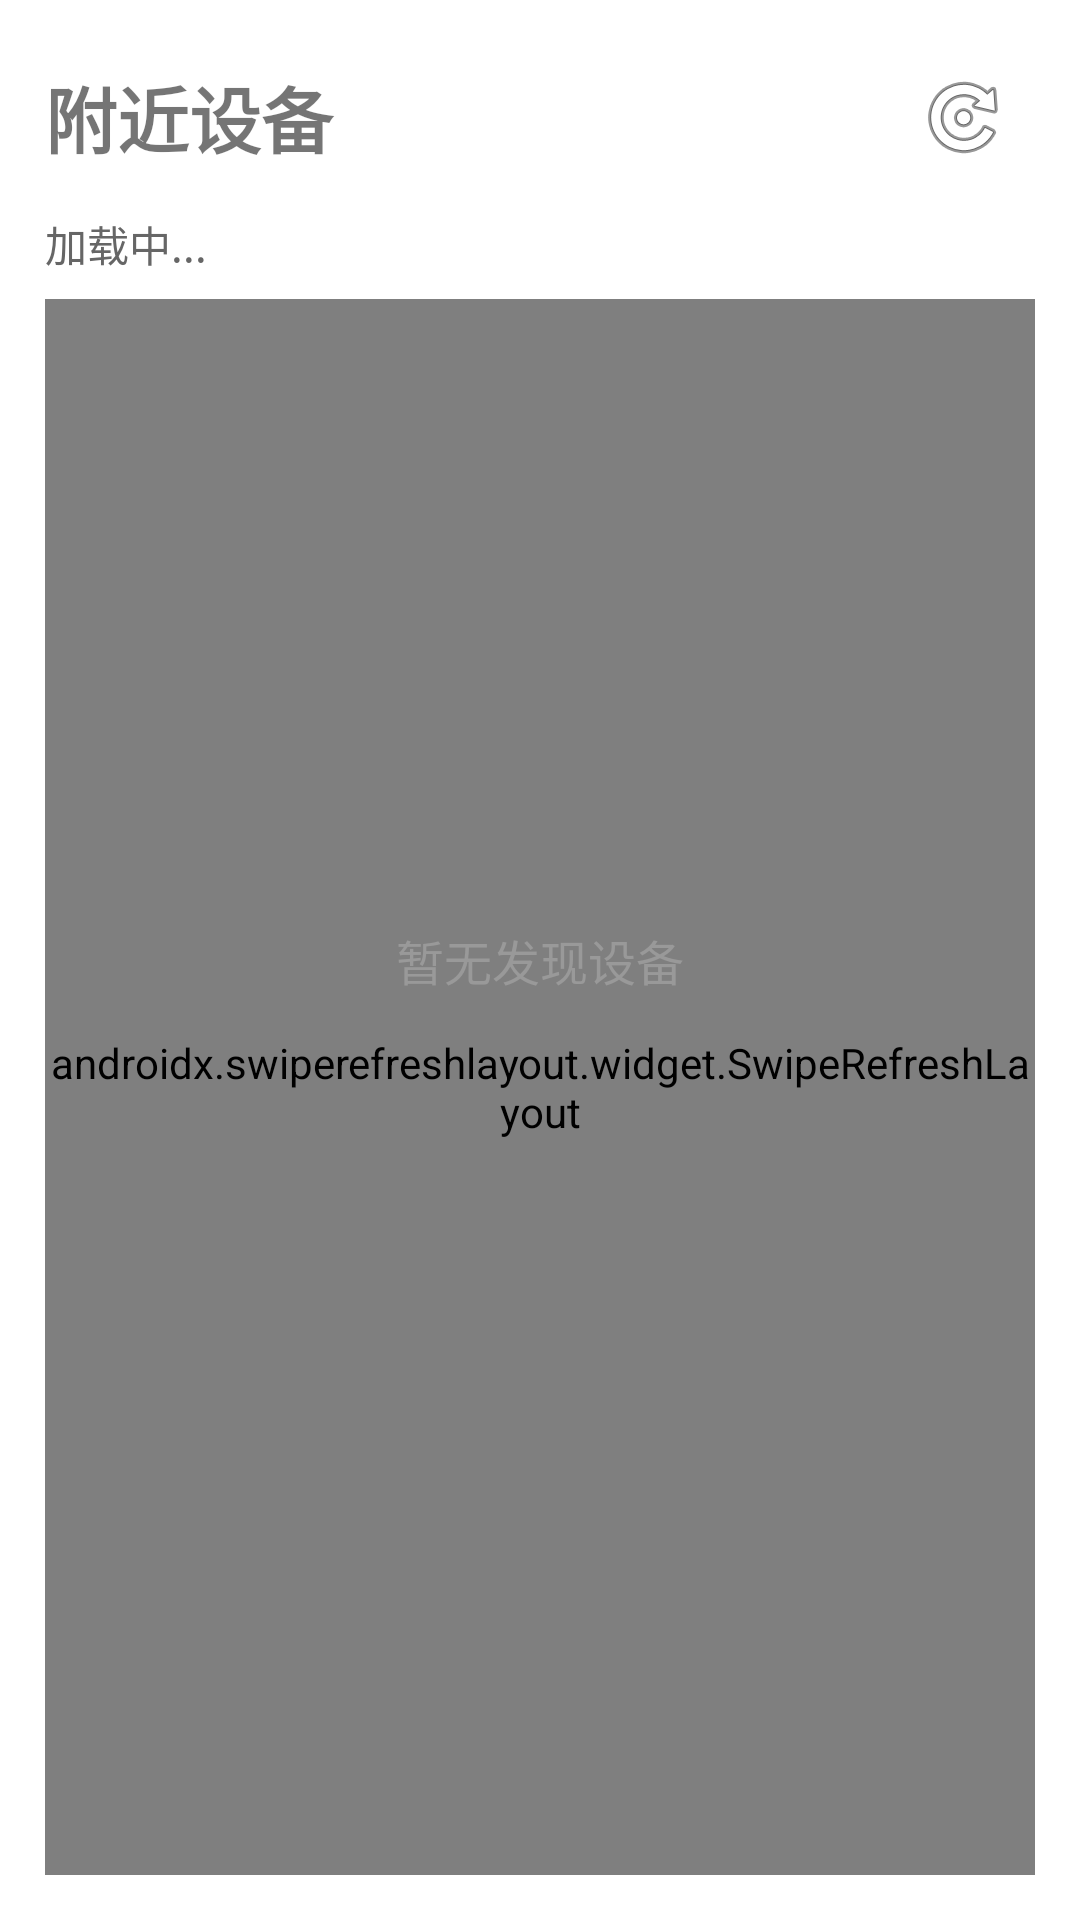

Screen size 1080px x 1920px. Icon name, then its center in pixels as (x=x, y=y):
刷新: (x=963, y=117)
